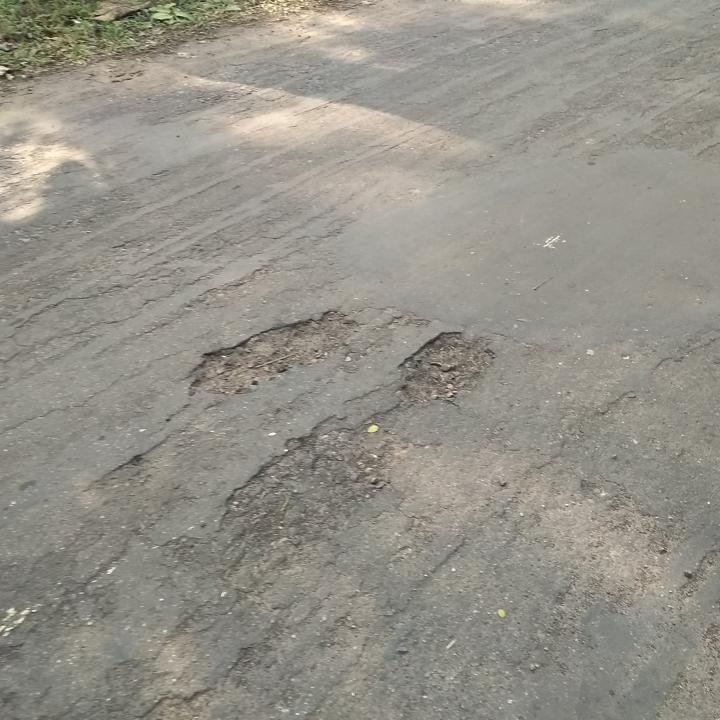pothole: (216, 414, 400, 551), (182, 304, 363, 397), (394, 326, 500, 409)
